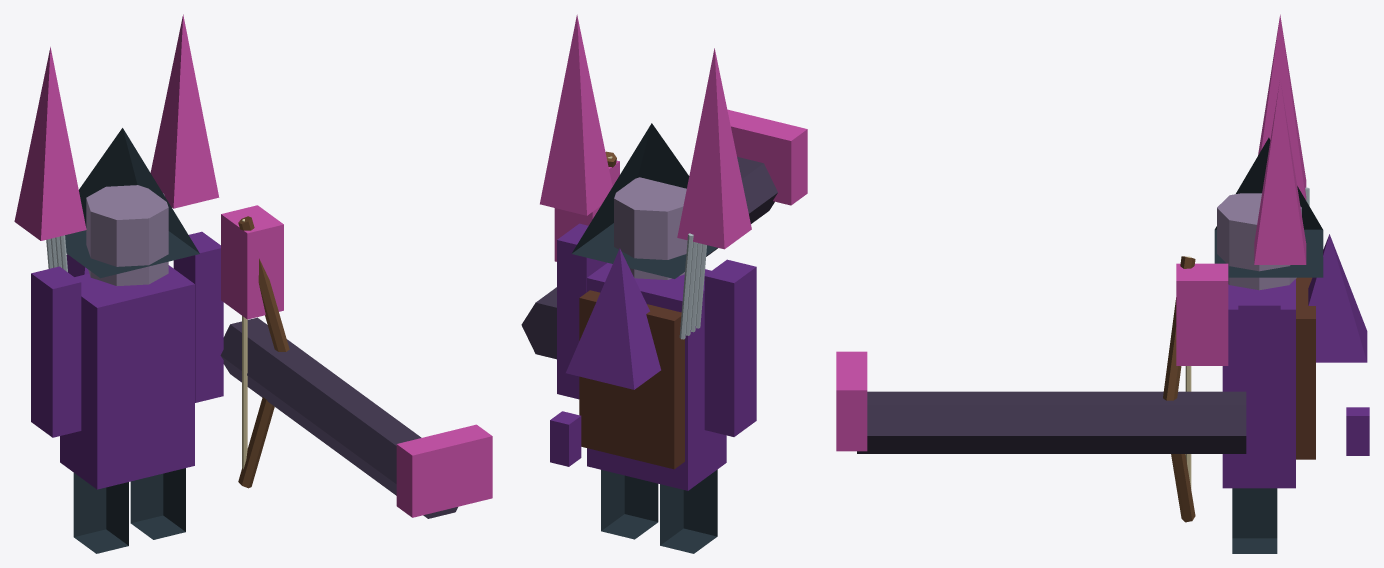
File: gunner.obj
3 renders of one model, left to right at view 1: azimuth 30°, elevation 25°; view 2: azimuth 150°, elevation 25°; view 3: azimuth 270°, elevation 25°, orthographic. The views are drawn at different scales.
Visible parts, largest first — view 1: ranged; view 2: ranged; view 3: ranged.
Part boxes in pixels (box(x1,y1,x2,y2)): ranged: box(14, 14, 492, 553); ranged: box(521, 14, 807, 553); ranged: box(836, 14, 1369, 553).
Size of the model in its own units: 1.04 by 2.07 by 2.06.
